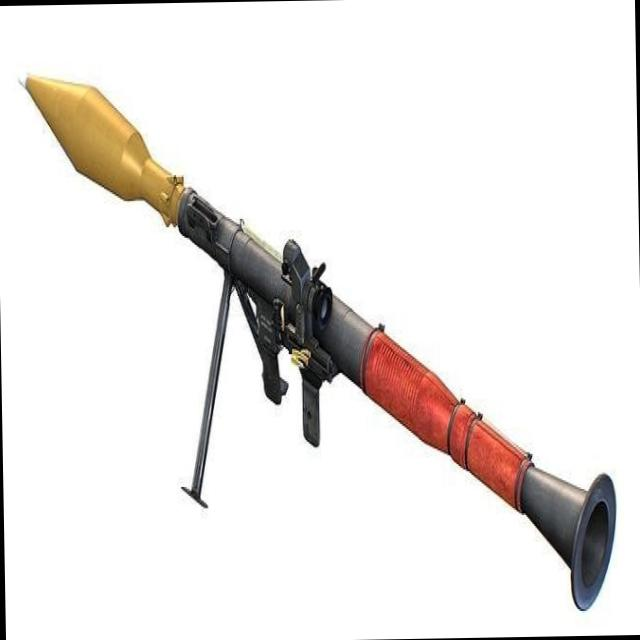Weapon: (12, 49, 626, 620)
